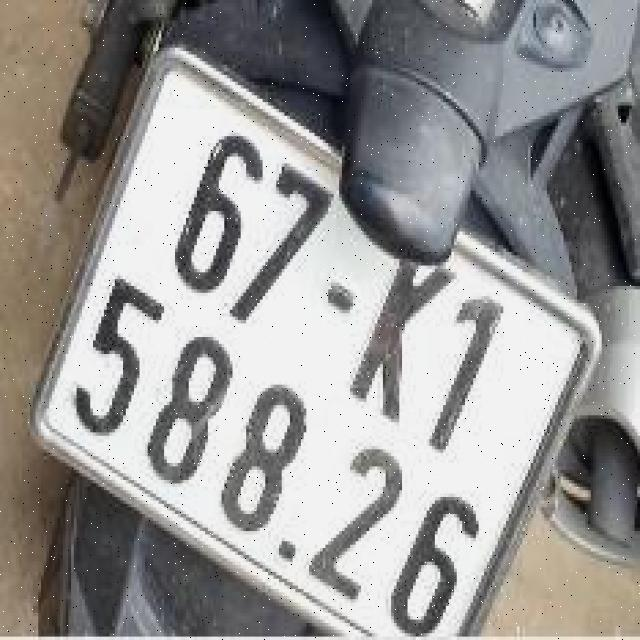1: (410, 274, 521, 475)
2: (295, 430, 418, 618)
5: (61, 263, 173, 455)
6: (159, 113, 280, 314), (2, 3, 2, 3)
7: (219, 154, 347, 342)
8: (208, 366, 324, 550), (136, 319, 251, 503)
K: (343, 240, 472, 435)
